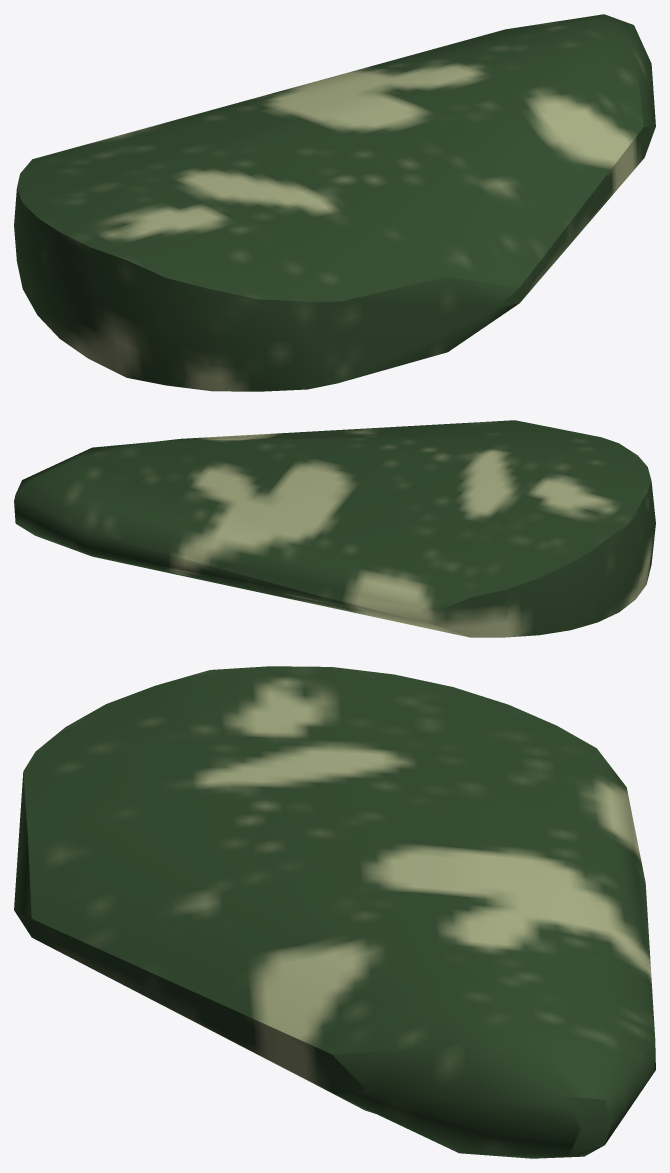
File: link_body_39.obj
3 renders of one model, top to bottom at view 1: azimuth 30°, elevation 25°; view 2: azimuth 150°, elevation 25°; view 3: azimuth 270°, elevation 25°, orthographic. The views are drawn at different scales.
Visible parts, largest first — view 1: link_body_39; view 2: link_body_39; view 3: link_body_39.
Boxes of the visible parts, x1,y1,x2,y2 form: link_body_39: (14, 14, 655, 391); link_body_39: (14, 420, 655, 637); link_body_39: (14, 666, 655, 1158).
Bounding box in the file's own units: 9.62 × 1.75 × 6.51.
